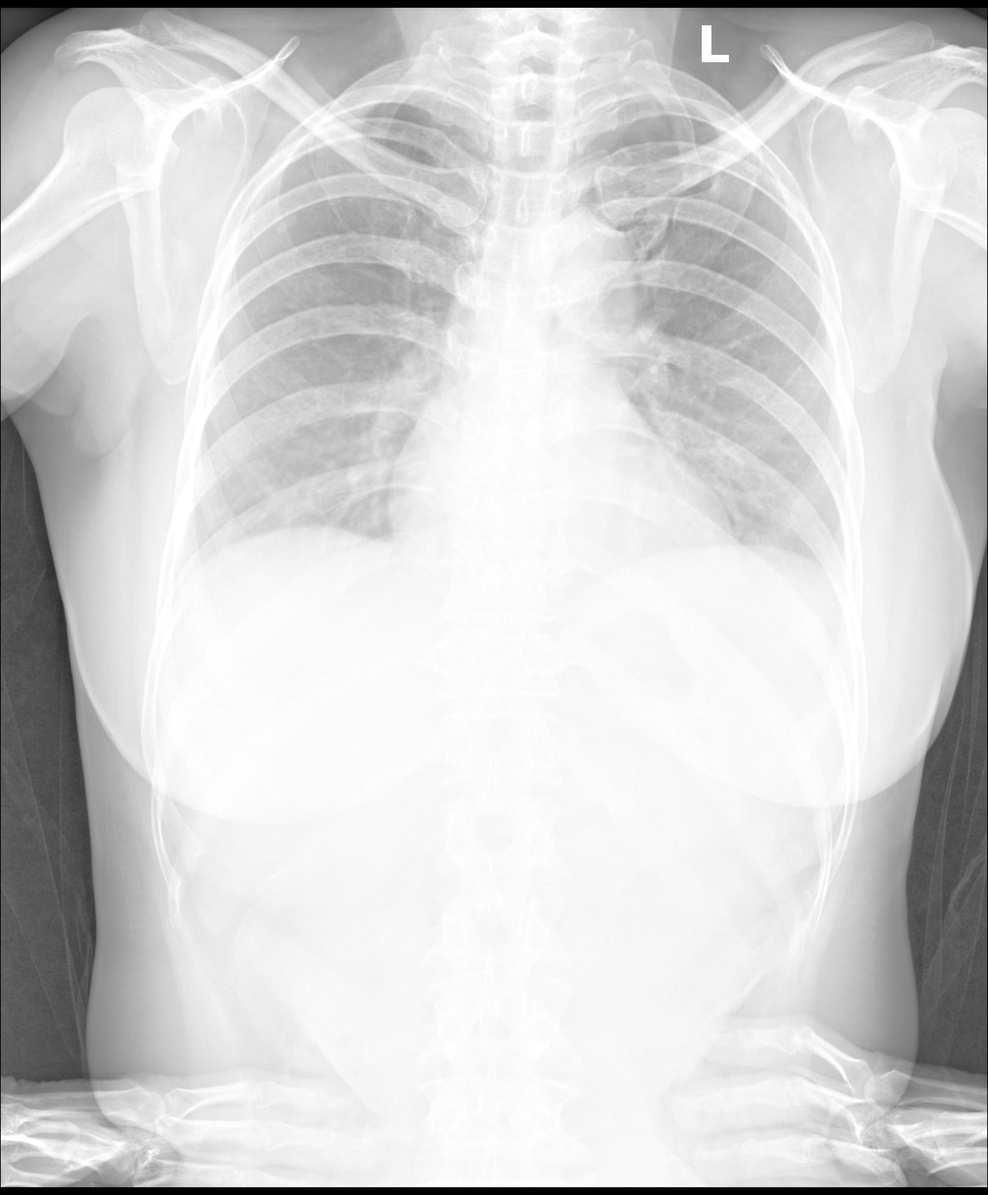Aortic enlargement: (546, 207, 638, 371)
